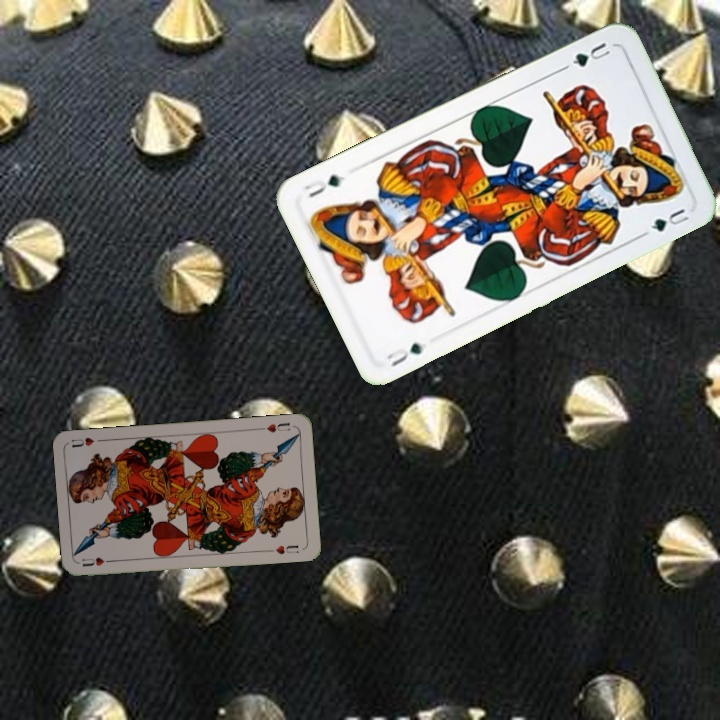GU: (559, 38, 613, 72), (383, 338, 427, 370)
HU: (255, 418, 293, 435), (78, 553, 117, 569)
